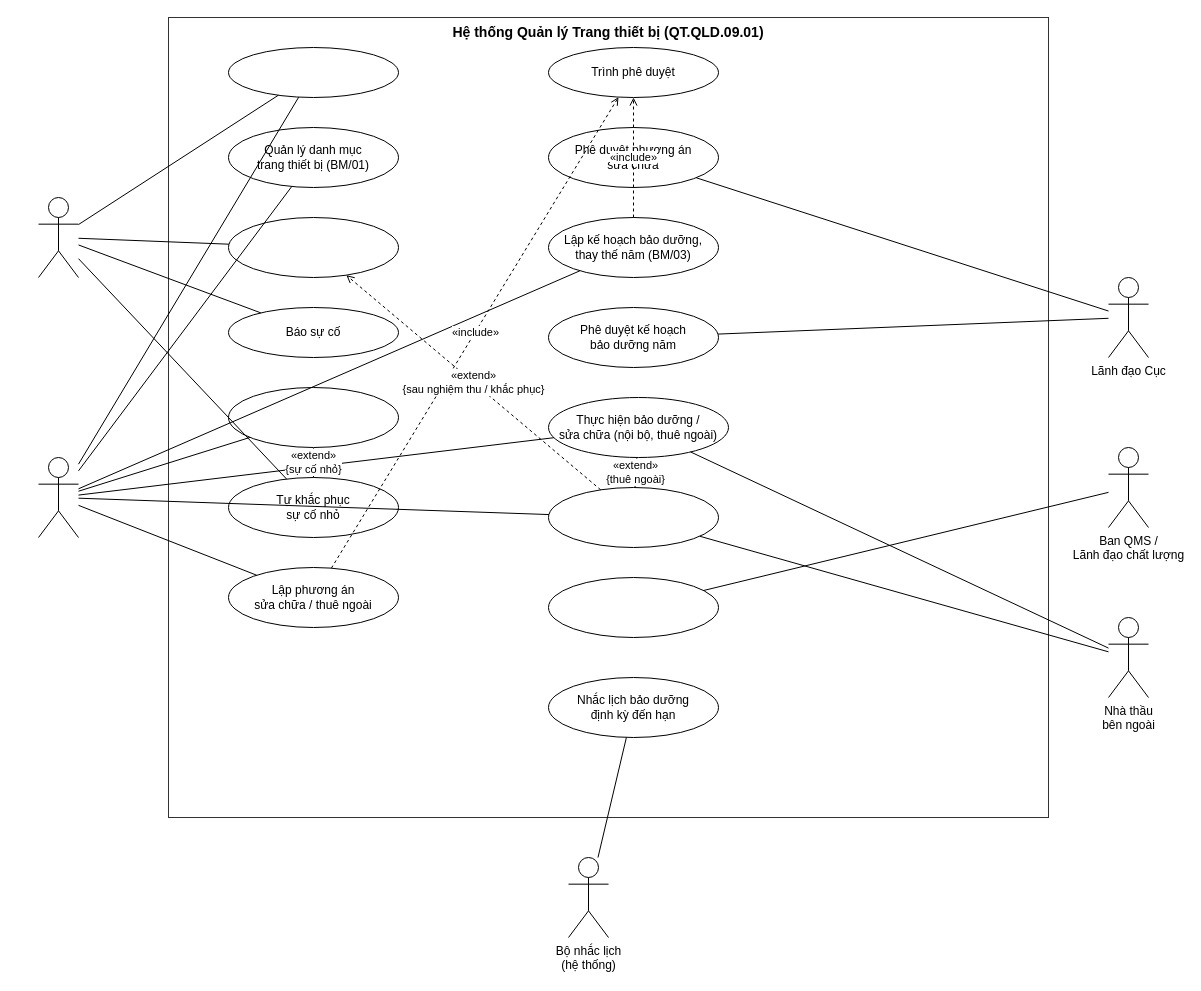
Some shapes in this 1201 by 991 pixel diagram are drawn without their labels. Each missing label, with the centre of its shape:
"Cập nhật hồ sơ trang thiết bị (BM/02)" goes at [313,247].
"Lập biên bản nghiệm thu (BM/04)" goes at [633,517].
"Nhân viên đơn vị sử dụng" goes at [58,237].
"Văn phòng Cục (chuyên viên)" goes at [58,497].
"Xem báo cáo & thống kê" goes at [633,607].
"Xem xét, xác định nguyên nhân sự cố" goes at [313,417].
"Đăng nhập hệ thống" goes at [313,72].
